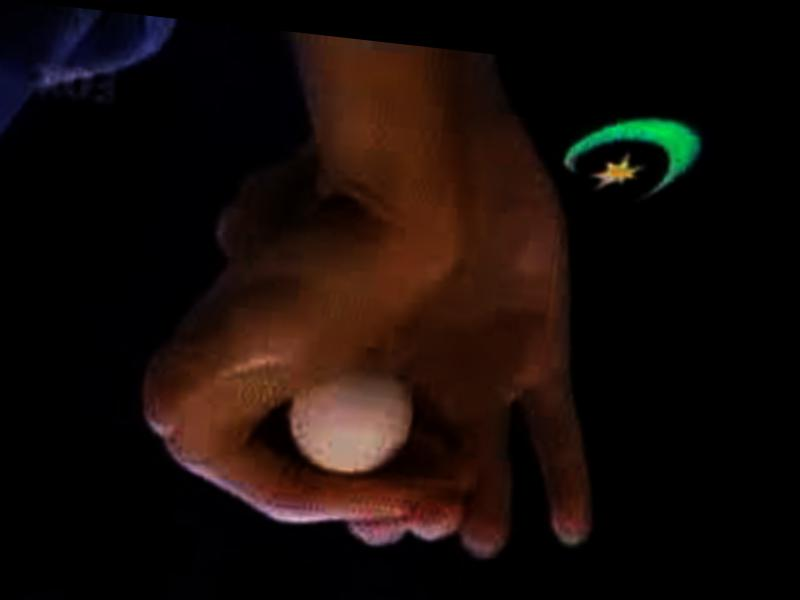Eggs: (278, 371, 418, 483)
